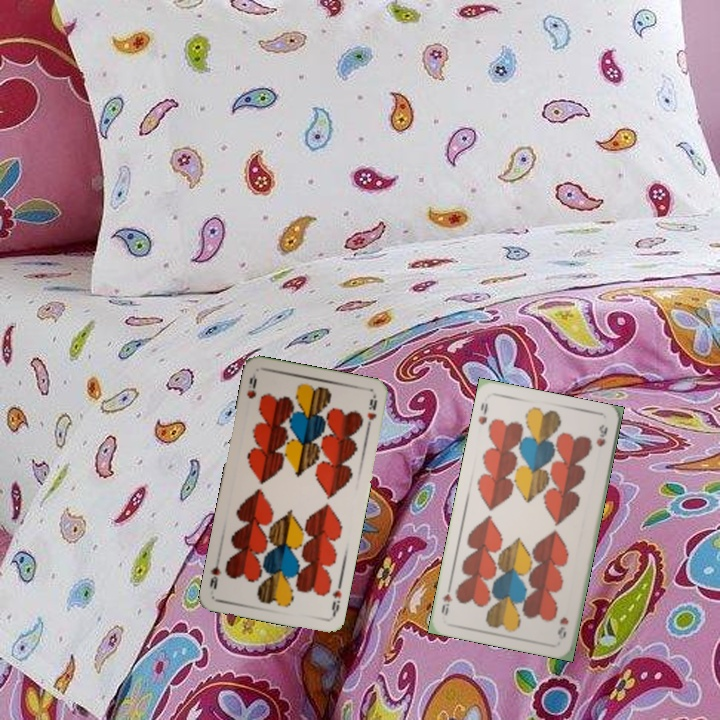H9: (328, 586, 344, 619), (553, 613, 571, 642), (243, 369, 259, 401), (474, 399, 491, 427)
